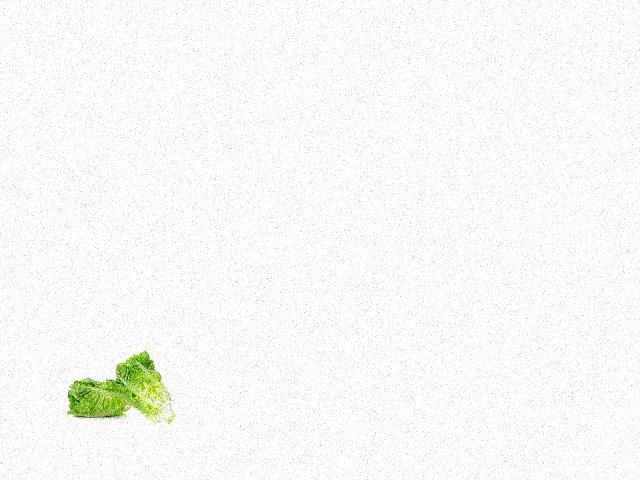lettuce: (107, 353, 177, 428)
